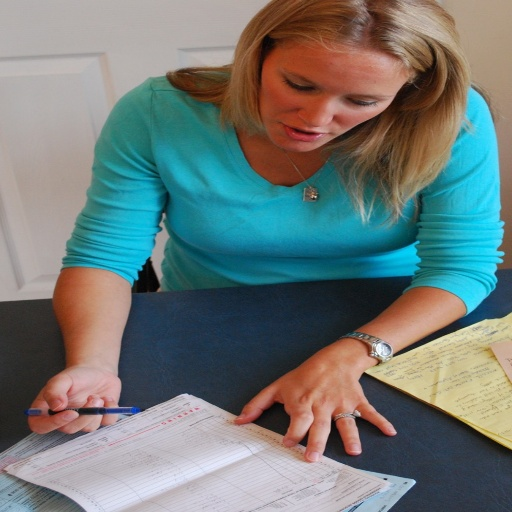hand: (297, 335, 394, 461), (24, 359, 126, 436)
